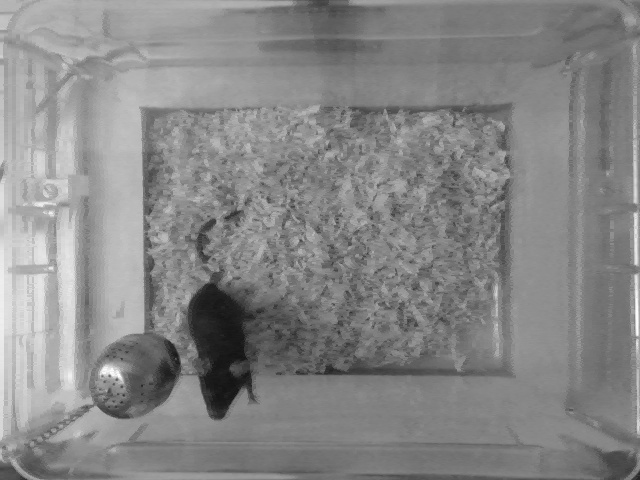mice: (186, 198, 267, 421)
